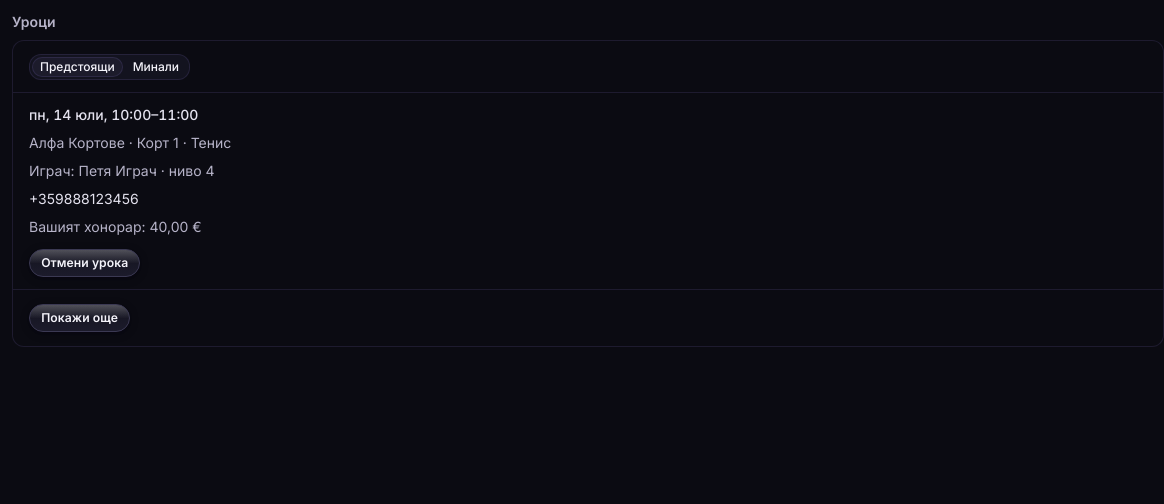
«Уроци»: what a coach is shown › more than a page: «Покажи още» follows the cursor
// Not while the seed is being checked against the server.
Step 1. Click the button "Покажи още" → x=80, y=318, box [29,304,130,332]
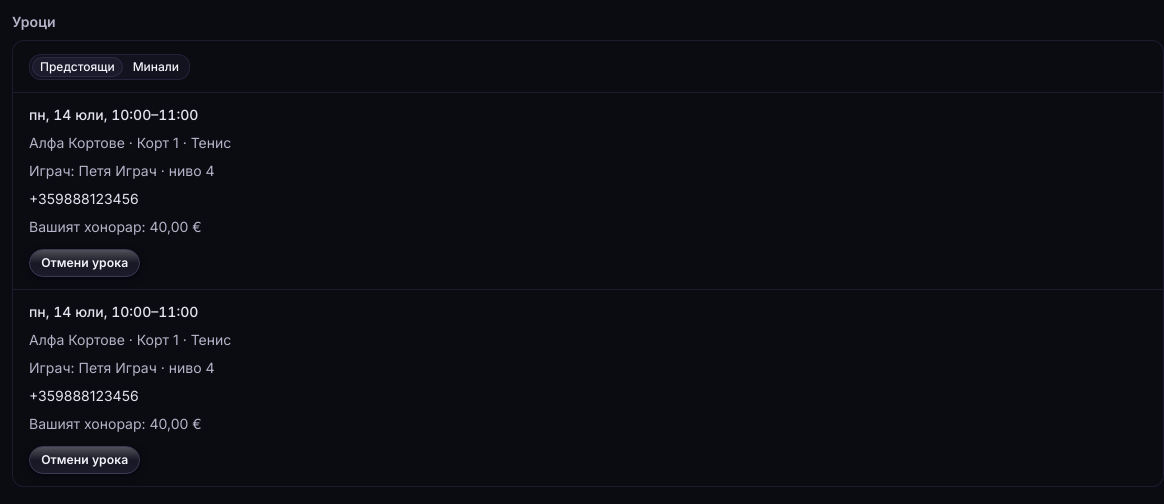
Now the number of elements with test id "coach-lesson" is 2, box [13,93,1163,290]; [29,303,231,474]
Now the button "Покажи още" is gone
